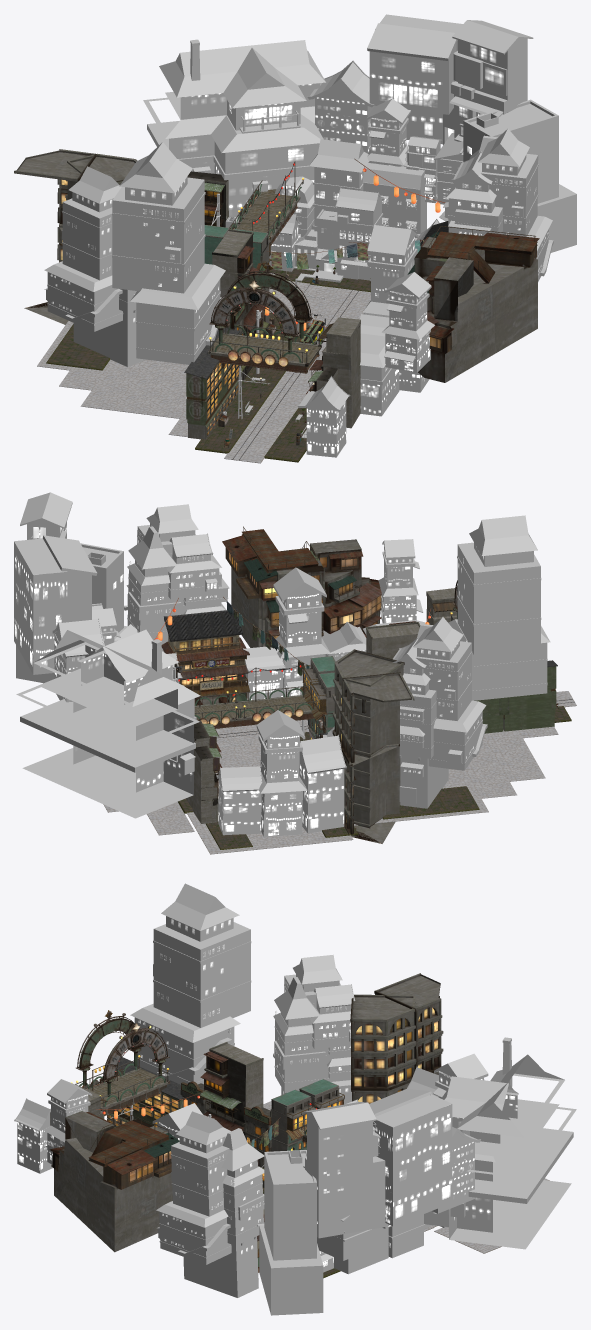
Rendered from Chimney_Town_Xana_Summit_Update.fbx.
3 renders of one model, top to bottom at view 1: azimuth 30°, elevation 25°; view 2: azimuth 150°, elevation 25°; view 3: azimuth 270°, elevation 25°, orthographic. The views are drawn at different scales.
Parts seen in each view (by area): view 1: Combined_Mesh, Pink_Emission_01, Shop_02_bake, Base, Decore_03, shop_001, Shop_03, Decore02_New, decore01_new; view 2: Combined_Mesh, Shop_03, Pink_Emission_01, Shop_02_bake, Base, Decore_03, shop_001, Board_01; view 3: Combined_Mesh, Shop_02_bake, Pink_Emission_01, Shop_03, Decore_03, shop_001, Base.
Boxes of the visible parts, x1=… form: Combined_Mesh: x1=44, y1=14, x2=576, y2=416; Pink_Emission_01: x1=243, y1=20, x2=533, y2=457; Shop_02_bake: x1=204, y1=225, x2=539, y2=383; Base: x1=37, y1=268, x2=370, y2=463; Decore_03: x1=207, y1=158, x2=445, y2=373; shop_001: x1=184, y1=317, x2=360, y2=439; Shop_03: x1=14, y1=149, x2=448, y2=324; Decore02_New: x1=211, y1=193, x2=326, y2=422; decore01_new: x1=218, y1=259, x2=318, y2=447; Combined_Mesh: x1=14, y1=504, x2=550, y2=818; Shop_03: x1=161, y1=609, x2=414, y2=843; Pink_Emission_01: x1=20, y1=492, x2=423, y2=836; Shop_02_bake: x1=222, y1=526, x2=420, y2=739; Base: x1=103, y1=691, x2=576, y2=854; Decore_03: x1=154, y1=580, x2=457, y2=728; shop_001: x1=426, y1=588, x2=557, y2=733; Board_01: x1=192, y1=657, x2=230, y2=690; Combined_Mesh: x1=130, y1=883, x2=576, y2=1315; Shop_02_bake: x1=49, y1=1042, x2=344, y2=1252; Pink_Emission_01: x1=14, y1=1053, x2=488, y2=1238; Shop_03: x1=257, y1=973, x2=443, y2=1272; Decore_03: x1=71, y1=1010, x2=317, y2=1177; shop_001: x1=50, y1=1056, x2=184, y2=1166; Base: x1=262, y1=1101, x2=549, y2=1278.
Size of the model in its own units: 10088 by 4785 by 10188.
